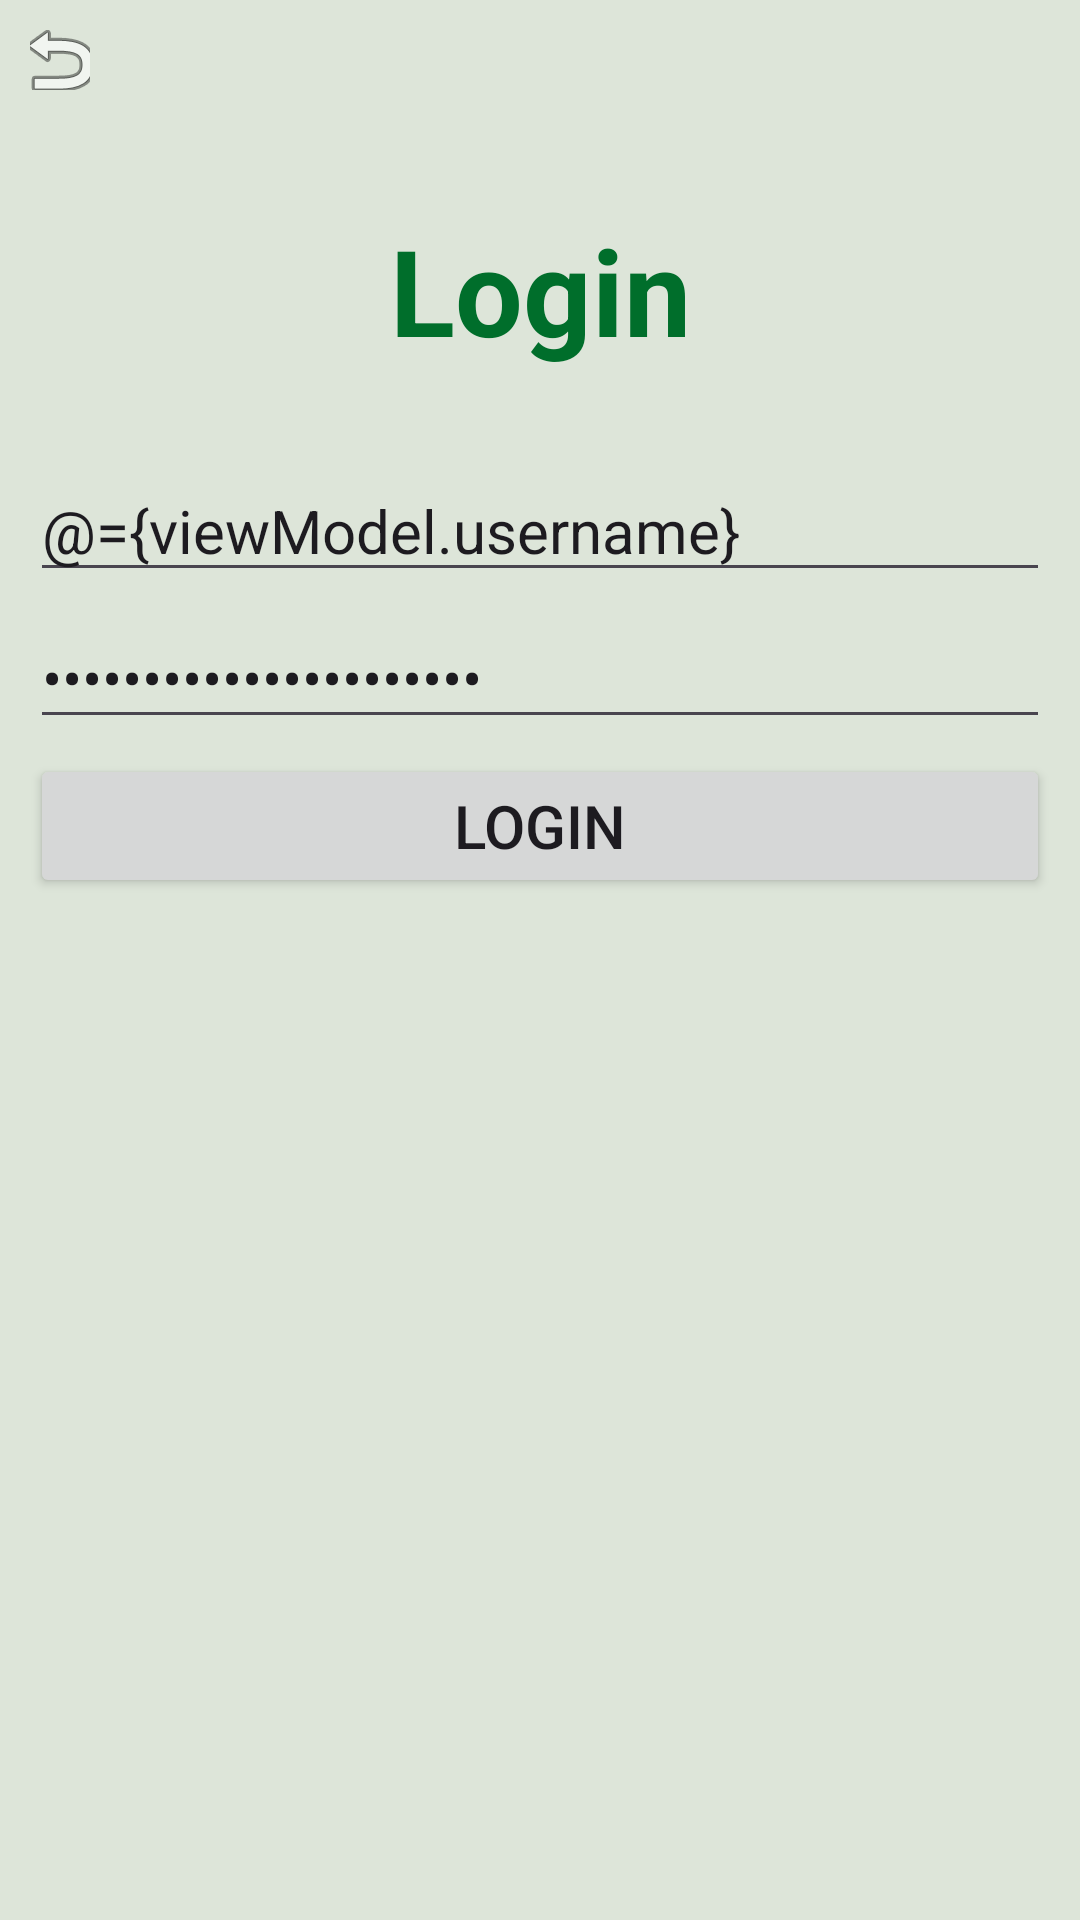

Locate icon controls on the screen. Image size 1080 × 1920, boxes as (x1, y1, x2, y2).
revert: (30, 30, 90, 90)
